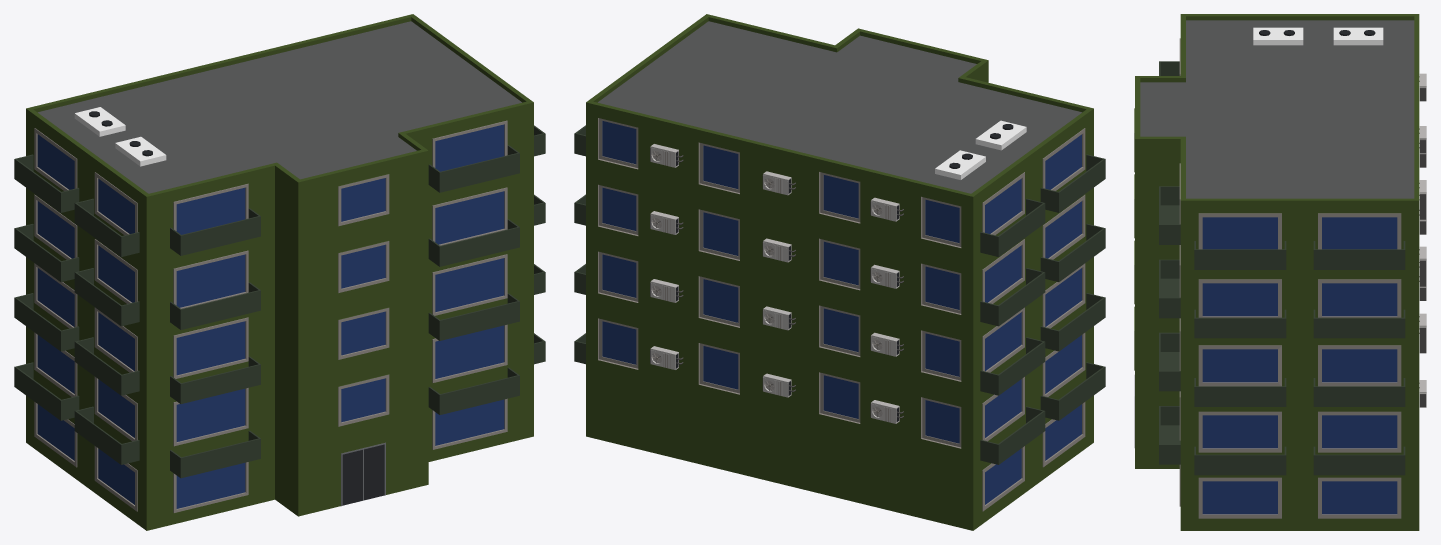
Rendered from Building_9.fbx.
3 renders of one model, left to right at view 1: azimuth 30°, elevation 25°; view 2: azimuth 150°, elevation 25°; view 3: azimuth 270°, elevation 25°, orthographic.
Parts seen in each view (by area): view 1: Building_9; view 2: Building_9; view 3: Building_9.
Part boxes in pixels (bbox=[...]): Building_9: bbox=[14, 14, 545, 530]; Building_9: bbox=[574, 14, 1105, 530]; Building_9: bbox=[1134, 14, 1426, 530].
Size of the model in its own units: 1715 by 1301 by 1036.
